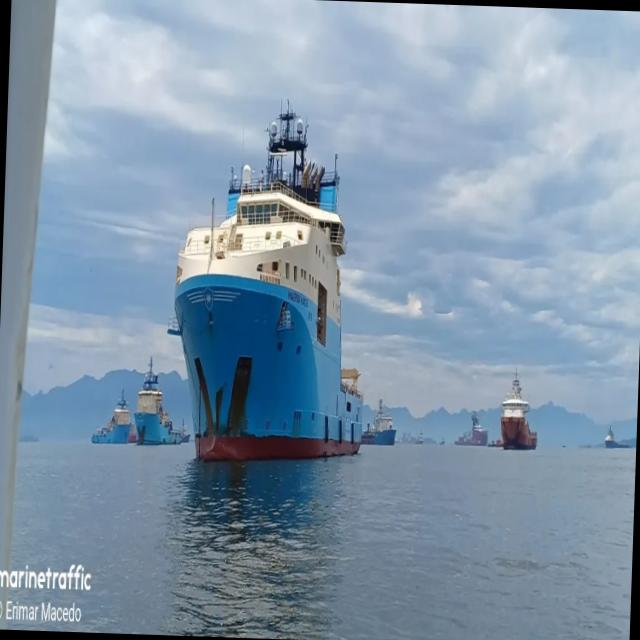Offshore: (167, 106, 362, 459), (500, 377, 535, 447), (134, 374, 168, 442), (91, 394, 131, 443), (361, 398, 395, 444)
